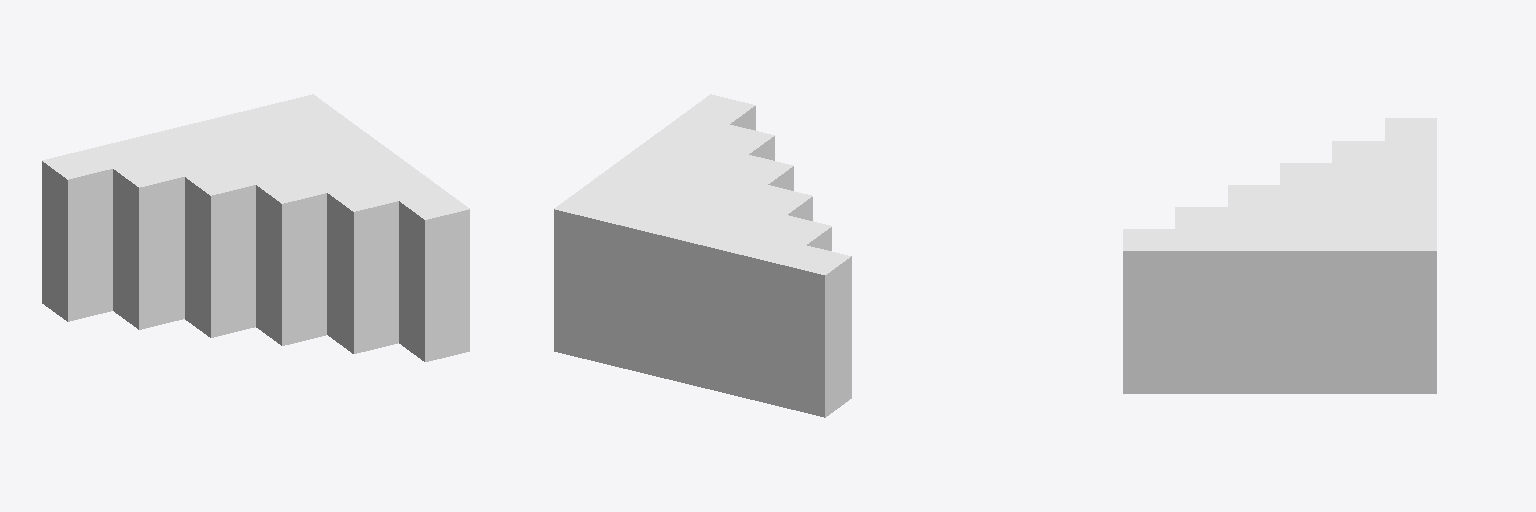
File: SideBlockB.obj
The picture shows the model from 3 angles: view 1: azimuth 30°, elevation 25°; view 2: azimuth 150°, elevation 25°; view 3: azimuth 270°, elevation 25°; orthographic projection.
Parts seen in each view (by area): view 1: object 1; view 2: object 1; view 3: object 1.
Boxes of the visible parts, x1,y1,x2,y2 form: object 1: [42, 94, 469, 361]; object 1: [554, 94, 851, 417]; object 1: [1123, 118, 1436, 393].
Bounding box in the file's own units: 0.6 × 0.3 × 0.6.